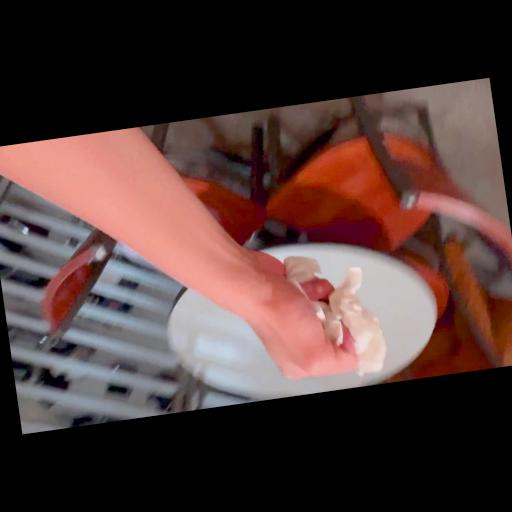napkin: (280, 243, 390, 388)
